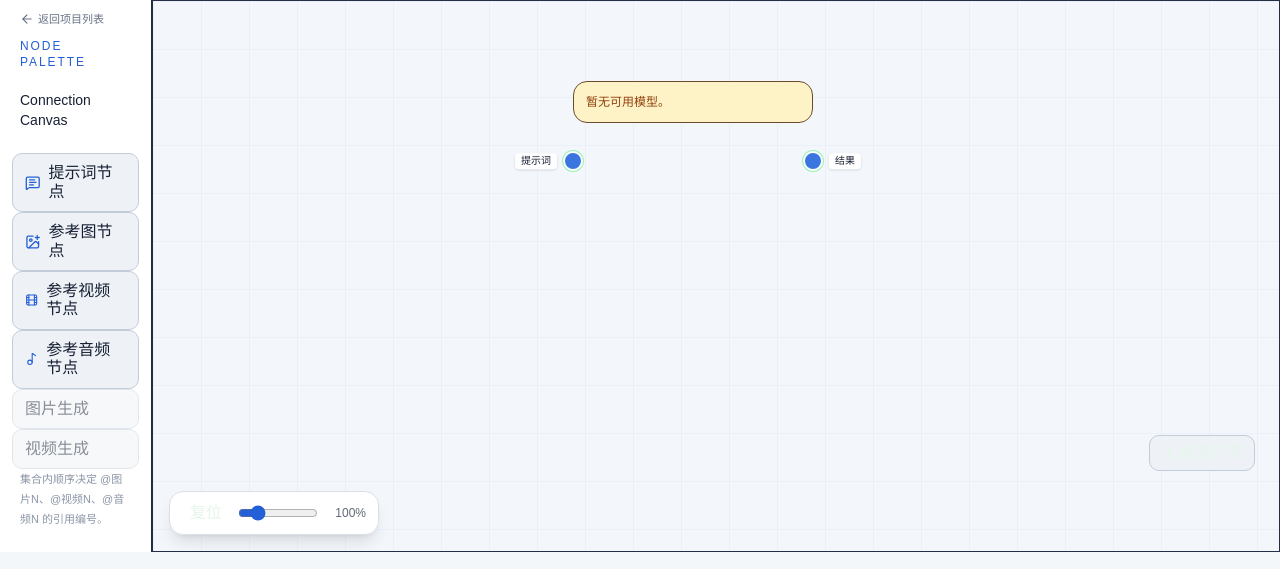
Test: canvas named-port interactions › clears a pending model output when that declared port is revoked
The width and height of the screenshot is (1280, 569).
Click the button with aria-label "model：结果输出端口" at (813,161), box [803,151,823,171]
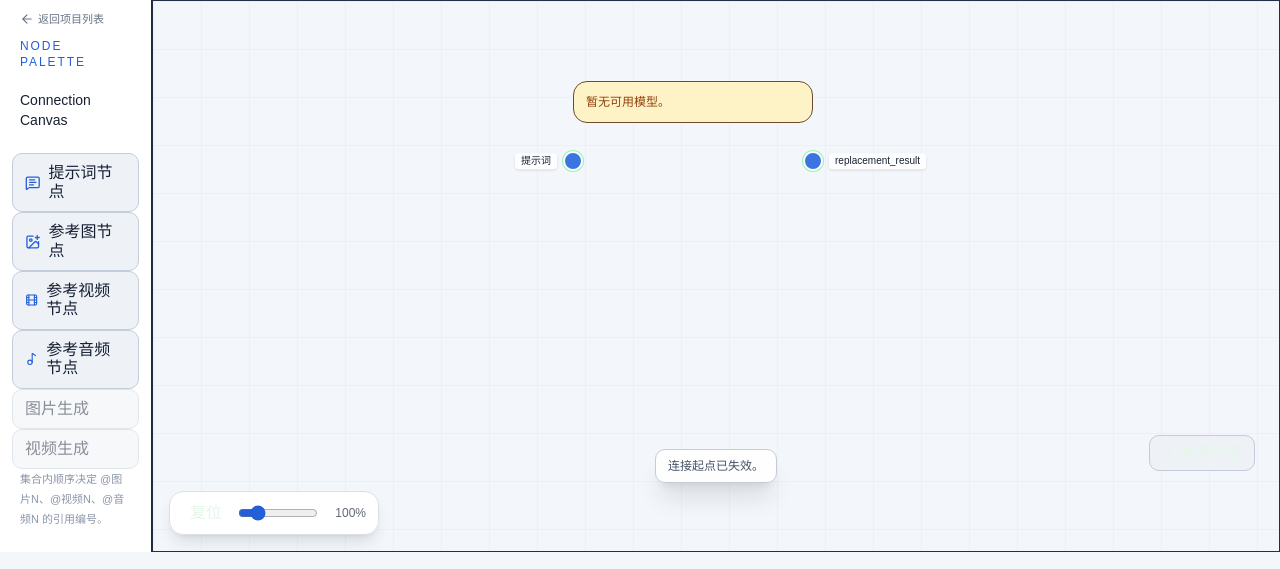
Result: the message with test id "connection-status" reads "连接起点已失效。" at [668,459,764,473]
